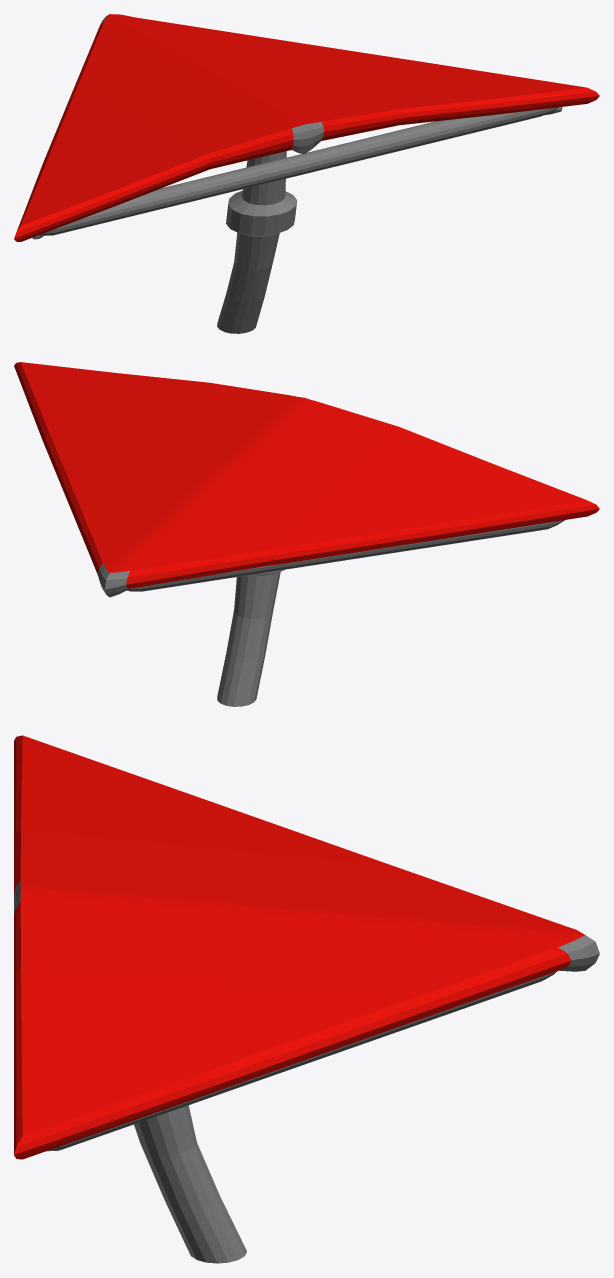
Rendered from Parachute.fbx.
3 renders of one model, top to bottom at view 1: azimuth 30°, elevation 25°; view 2: azimuth 150°, elevation 25°; view 3: azimuth 270°, elevation 25°, orthographic. The views are drawn at different scales.
Visible parts, largest first — view 1: Cylinder; view 2: Cylinder; view 3: Cylinder.
Part boxes in pixels (<box>): Cylinder: <box>14,14,599,333</box>; Cylinder: <box>14,362,599,706</box>; Cylinder: <box>14,735,599,1263</box>.
Size of the model in its own units: 534 by 218 by 319.
